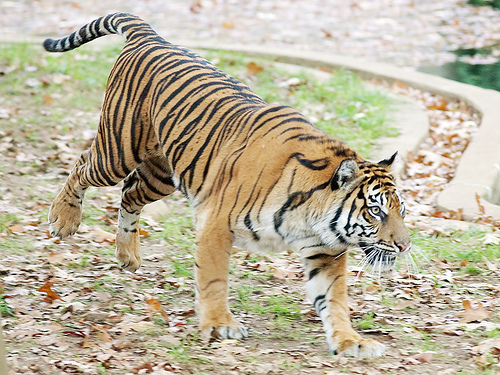Tigre: (45, 15, 407, 361)
